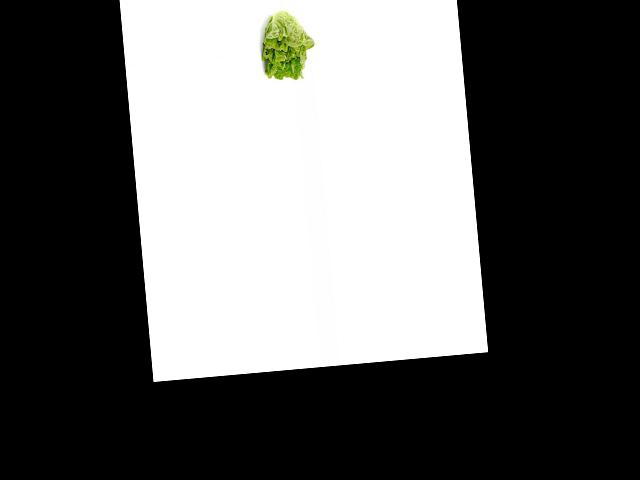lettuce: (253, 8, 316, 82)
